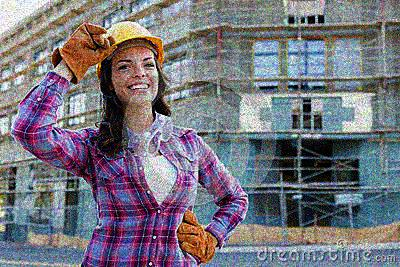helmet: (96, 20, 166, 104)
